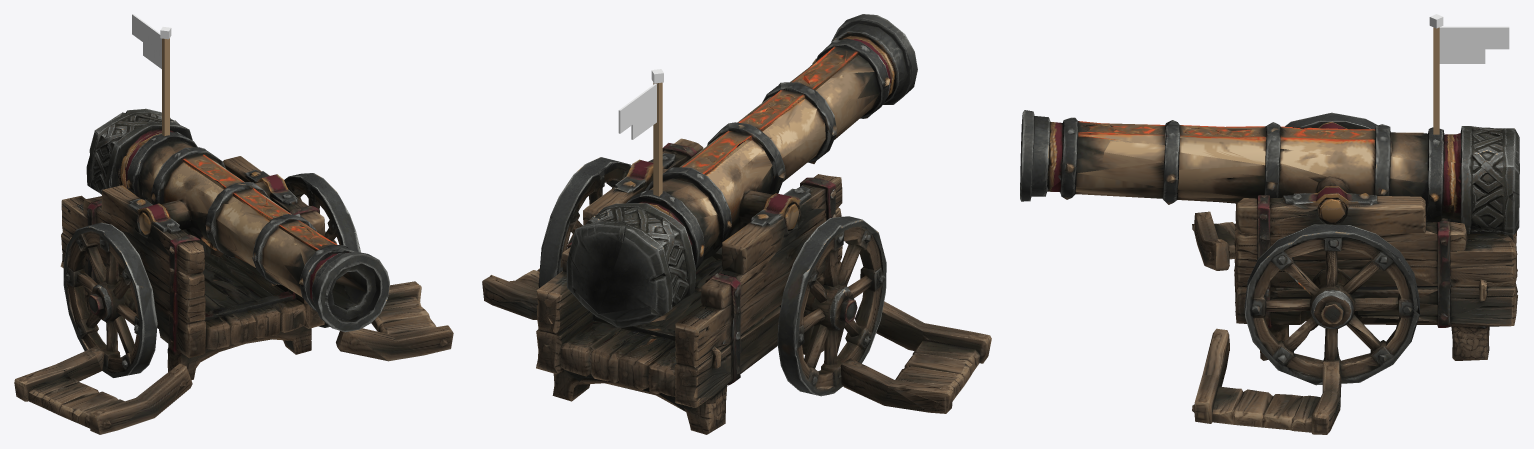
The model's file is ironhold_rune_cannon.glb.
The picture shows the model from 3 angles, left to right: view 1: azimuth 30°, elevation 25°; view 2: azimuth 150°, elevation 25°; view 3: azimuth 270°, elevation 25°; orthographic projection. The views are drawn at different scales.
Parts seen in each view (by area): view 1: ironhold_rune_cannon, Team_pennant; view 2: ironhold_rune_cannon, Team_pennant; view 3: ironhold_rune_cannon, Team_pennant.
Part boxes in pixels (bbox=[...]): ironhold_rune_cannon: bbox=[14, 108, 453, 434]; Team_pennant: bbox=[132, 14, 171, 135]; ironhold_rune_cannon: bbox=[482, 14, 991, 434]; Team_pennant: bbox=[618, 69, 663, 196]; ironhold_rune_cannon: bbox=[1020, 110, 1519, 434]; Team_pennant: bbox=[1429, 14, 1509, 134].
Bounding box in the file's own units: 1.9 × 1.27 × 1.85.
3 materials, 1 textured.
